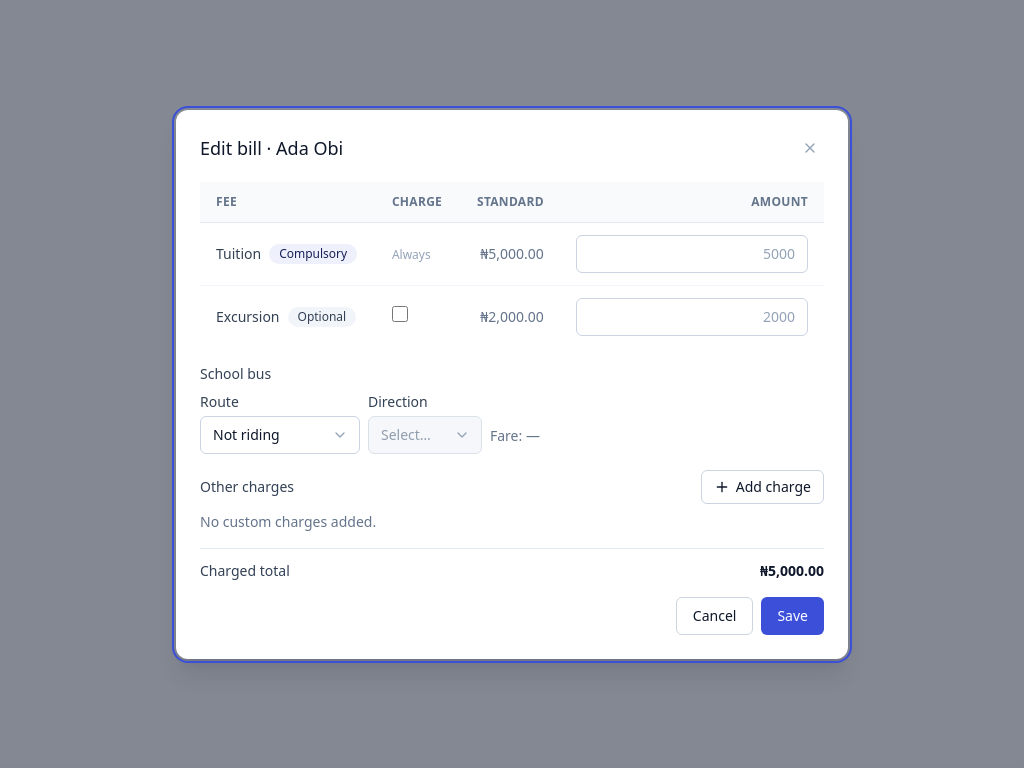
Test: StudentBillAdjustmentsModal › a save failure keeps the modal open with the error shown
Click the checkbox named "Charge Excursion": (400, 314) top-left (392, 306), bottom-right (408, 322)
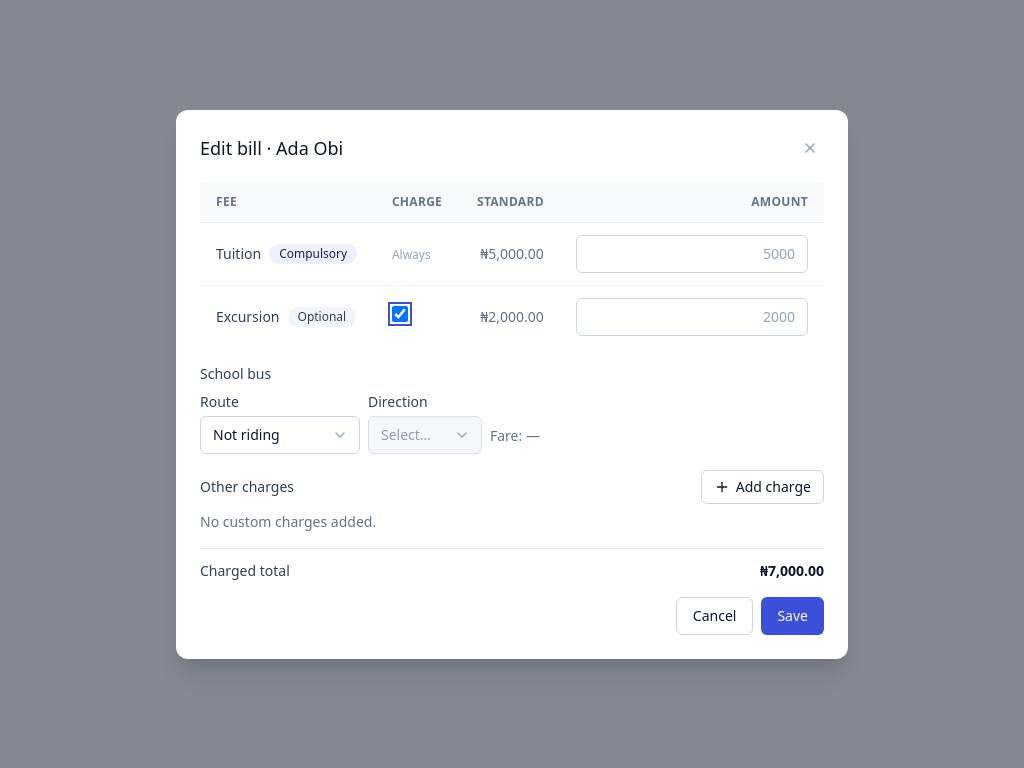
Click the button "Save": (793, 616) top-left (761, 596), bottom-right (824, 634)
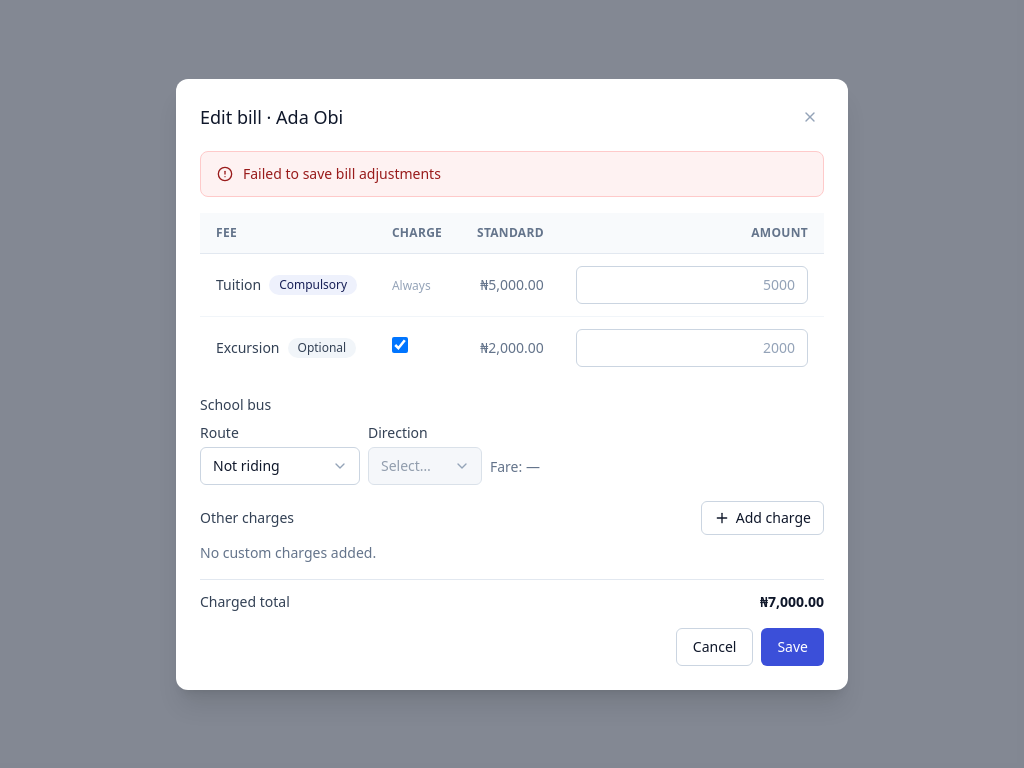
expect the text "Failed to save bill adjustments" is shown: met, box top-left (243, 164), bottom-right (441, 184)
